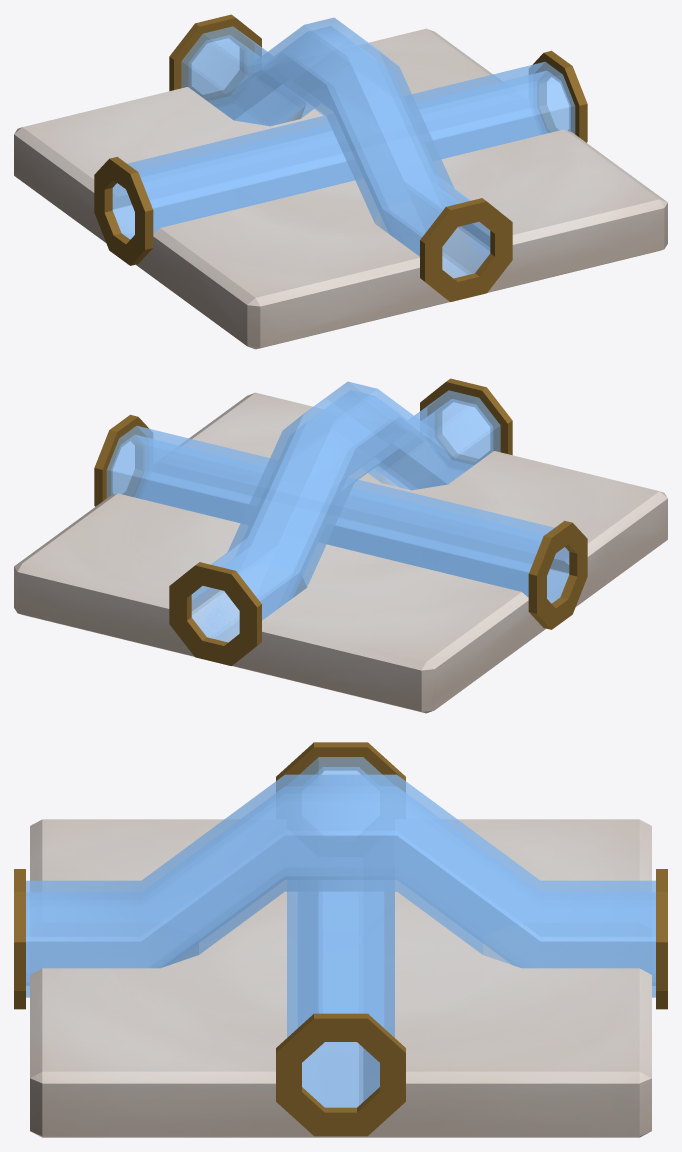
The model's file is bridge_piece.fbx.
3 renders of one model, top to bottom at view 1: azimuth 30°, elevation 25°; view 2: azimuth 150°, elevation 25°; view 3: azimuth 270°, elevation 25°, orthographic. The views are drawn at different scales.
Parts seen in each view (by area): view 1: puzzle_piece_bridge_base, bridge_pipe, straight_pipe, pipe_endcap2 (×2), pipe_endcap1 (×2); view 2: puzzle_piece_bridge_base, bridge_pipe, straight_pipe, pipe_endcap1 (×2), pipe_endcap2 (×2); view 3: puzzle_piece_bridge_base, bridge_pipe, straight_pipe, pipe_endcap1 (×2), pipe_endcap2 (×2).
Part boxes in pixels (bbox=[...]): puzzle_piece_bridge_base: bbox=[14, 28, 667, 349]; bridge_pipe: bbox=[181, 17, 490, 278]; straight_pipe: bbox=[112, 62, 575, 239]; pipe_endcap2 (×2): bbox=[94, 156, 512, 301]; pipe_endcap1 (×2): bbox=[169, 14, 587, 142]; puzzle_piece_bridge_base: bbox=[14, 392, 667, 713]; bridge_pipe: bbox=[191, 381, 500, 642]; straight_pipe: bbox=[106, 426, 569, 603]; pipe_endcap1 (×2): bbox=[94, 414, 261, 665]; pipe_endcap2 (×2): bbox=[420, 378, 587, 629]; puzzle_piece_bridge_base: bbox=[30, 819, 651, 1137]; bridge_pipe: bbox=[26, 774, 655, 997]; straight_pipe: bbox=[287, 757, 394, 1107]; pipe_endcap1 (×2): bbox=[276, 869, 667, 1136]; pipe_endcap2 (×2): bbox=[14, 742, 405, 1009].
Bounding box in the file's own units: 145 × 55.74 × 145.
